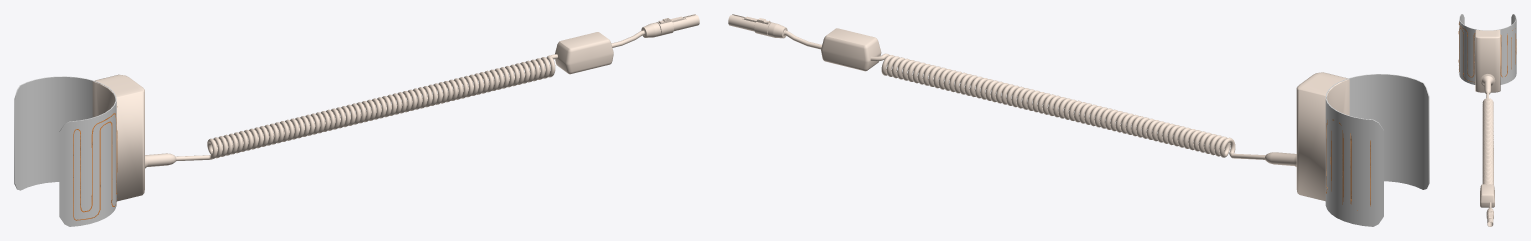
File: fluid_warmer.fbx
The picture shows the model from 3 angles, left to right: view 1: azimuth 30°, elevation 25°; view 2: azimuth 150°, elevation 25°; view 3: azimuth 270°, elevation 25°; orthographic projection. The views are drawn at different scales.
Visible parts, largest first — view 1: Lines, Helix001, ChamferBox001, ChamferBox003, heating_Line, Line016, Line002; view 2: Lines, Helix001, ChamferBox001, ChamferBox003, Line016, heating_Line, Line002; view 3: Lines, ChamferBox001, Helix001, heating_Line, ChamferBox003, Line002, Line016.
Boxes of the visible parts, bbox=[...] form: Lines: bbox=[14, 76, 116, 226]; Helix001: bbox=[176, 54, 557, 161]; ChamferBox001: bbox=[92, 74, 144, 201]; ChamferBox003: bbox=[555, 32, 613, 74]; heating_Line: bbox=[73, 106, 117, 220]; Line016: bbox=[641, 14, 699, 37]; Line002: bbox=[145, 153, 176, 168]; Lines: bbox=[1325, 74, 1429, 226]; Helix001: bbox=[870, 53, 1265, 159]; ChamferBox001: bbox=[1296, 72, 1349, 201]; ChamferBox003: bbox=[821, 28, 881, 71]; Line016: bbox=[728, 14, 787, 38]; heating_Line: bbox=[1326, 119, 1370, 210]; Line002: bbox=[1265, 152, 1296, 166]; Lines: bbox=[1459, 14, 1516, 84]; ChamferBox001: bbox=[1475, 30, 1500, 92]; Helix001: bbox=[1482, 92, 1493, 184]; heating_Line: bbox=[1458, 22, 1516, 82]; ChamferBox003: bbox=[1480, 184, 1494, 207]; Line002: bbox=[1480, 74, 1495, 94]; Line016: bbox=[1486, 208, 1493, 226].
Size of the model in its own units: 142 by 21.64 by 20.43.
